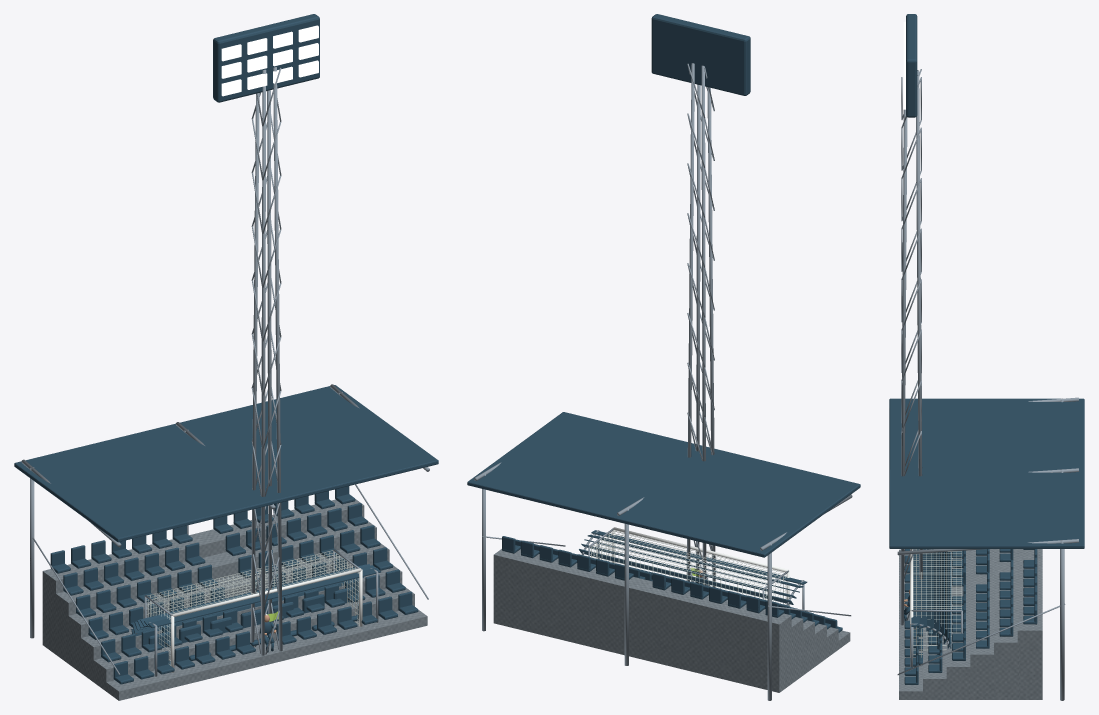
The model's file is stadium-kit.glb.
The picture shows the model from 3 angles, left to right: view 1: azimuth 30°, elevation 25°; view 2: azimuth 150°, elevation 25°; view 3: azimuth 270°, elevation 25°; orthographic projection. The views are drawn at different scales.
Parts seen in each view (by area): view 1: stand, floodlight, stand-low, bench, net, goal; view 2: stand, stand-low, floodlight, bench, net, goal; view 3: stand, stand-low, floodlight, bench, net, goal.
Boxes of the visible parts, bbox=[...] form: stand: bbox=[14, 384, 438, 700]; floodlight: bbox=[213, 14, 319, 655]; stand-low: bbox=[21, 387, 437, 700]; bench: bbox=[131, 564, 381, 676]; net: bbox=[146, 550, 358, 665]; goal: bbox=[144, 549, 362, 672]; stand: bbox=[467, 412, 860, 700]; stand-low: bbox=[468, 463, 860, 700]; floodlight: bbox=[651, 14, 750, 587]; bench: bbox=[579, 530, 807, 609]; net: bbox=[589, 530, 787, 604]; goal: bbox=[588, 527, 789, 606]; stand: bbox=[889, 397, 1084, 700]; stand-low: bbox=[889, 398, 1084, 699]; floodlight: bbox=[900, 14, 922, 625]; bench: bbox=[910, 549, 951, 667]; net: bbox=[913, 549, 961, 657]; goal: bbox=[910, 549, 962, 657].
Bounding box in the file's own units: 12.5 × 23.64 × 7.
Materials: 10 (1 with a texture image).
